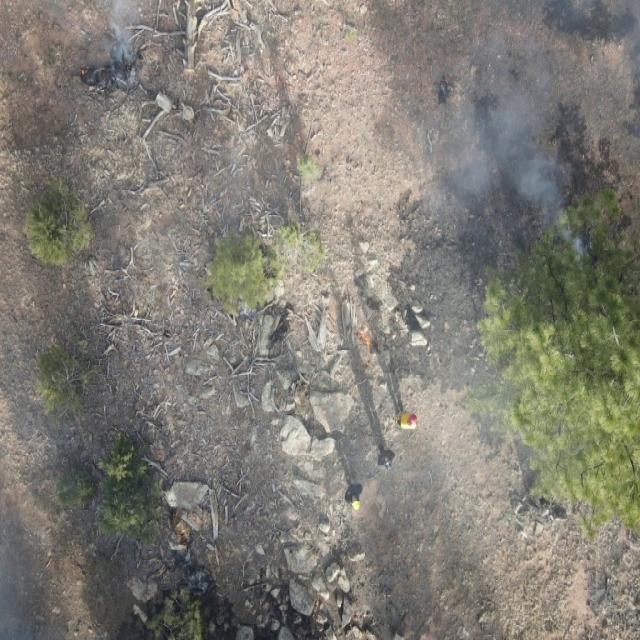fire: (356, 323, 379, 361), (172, 518, 190, 544), (77, 62, 91, 80), (120, 58, 134, 73)
smoke: (436, 41, 570, 217), (92, 0, 152, 90), (0, 517, 40, 640), (561, 0, 640, 44)
